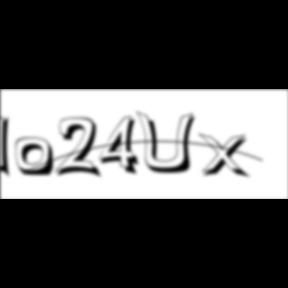2: (56, 117, 106, 181)
4: (98, 115, 146, 179)
I: (1, 110, 18, 182)
U: (136, 110, 202, 176)
o: (15, 137, 57, 179)
x: (198, 132, 253, 181)
